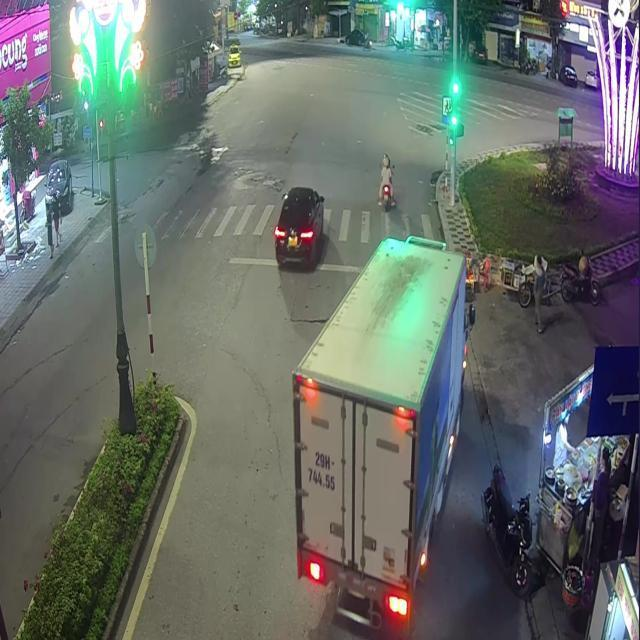car: (292, 234, 465, 638), (273, 186, 322, 268)
green_light: (450, 92, 457, 125)
motobike: (381, 185, 392, 210)
stop_line: (226, 256, 440, 277)
